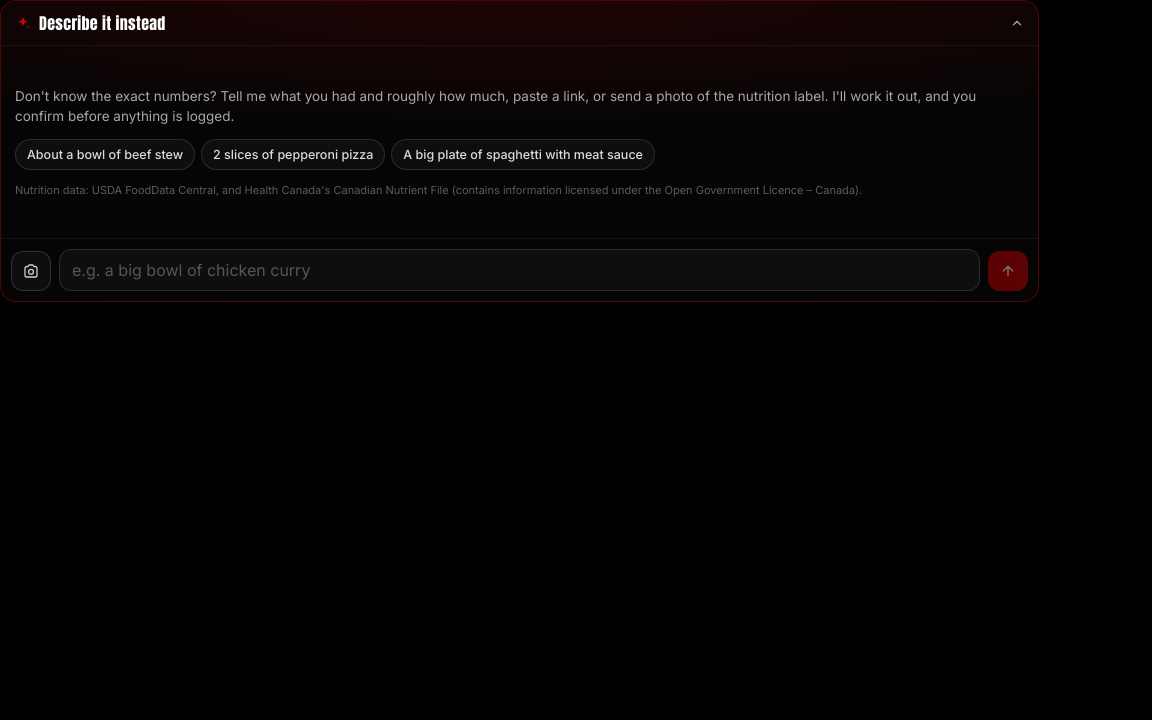
Test: FoodAssistant chat › shows the server's error, or a general one
Type "one" into the text box named "Describe what you ate" at coordinates (519, 270), box top-left (59, 249), bottom-right (980, 291)
Then press Enter
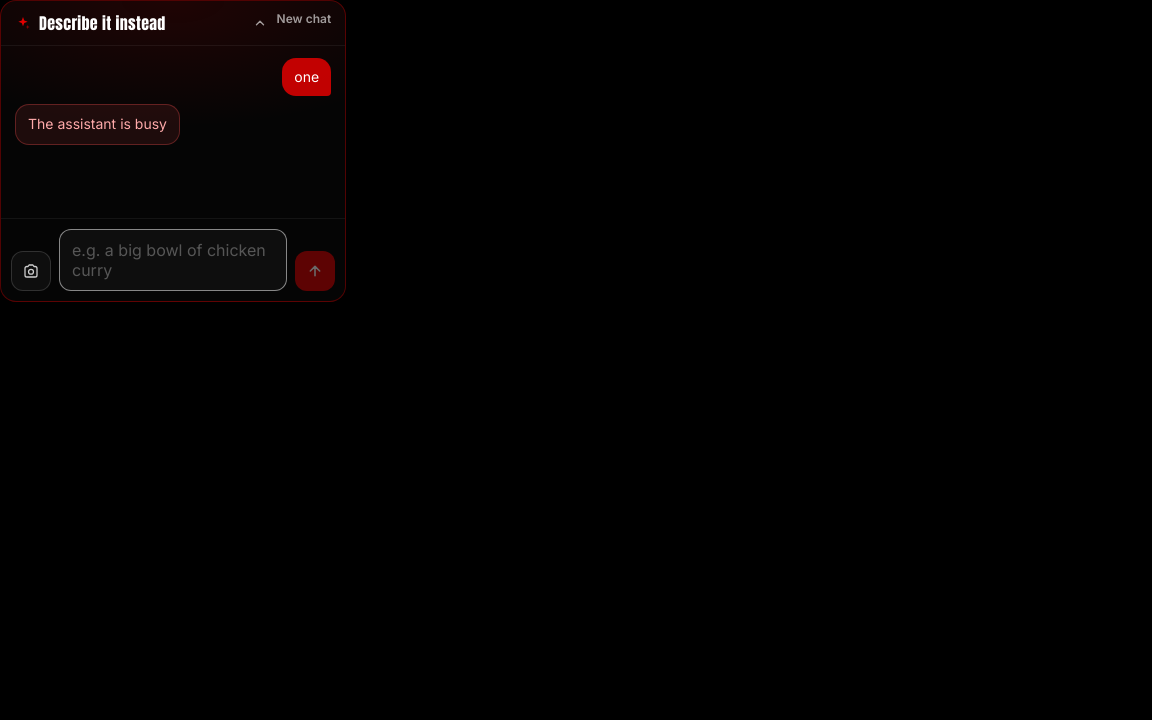
expect the text "The assistant is busy" is shown: met, box top-left (15, 104), bottom-right (180, 145)
Type "two" into the text box named "Describe what you ate" at coordinates (173, 260), box top-left (59, 229), bottom-right (287, 291)
Then press Enter
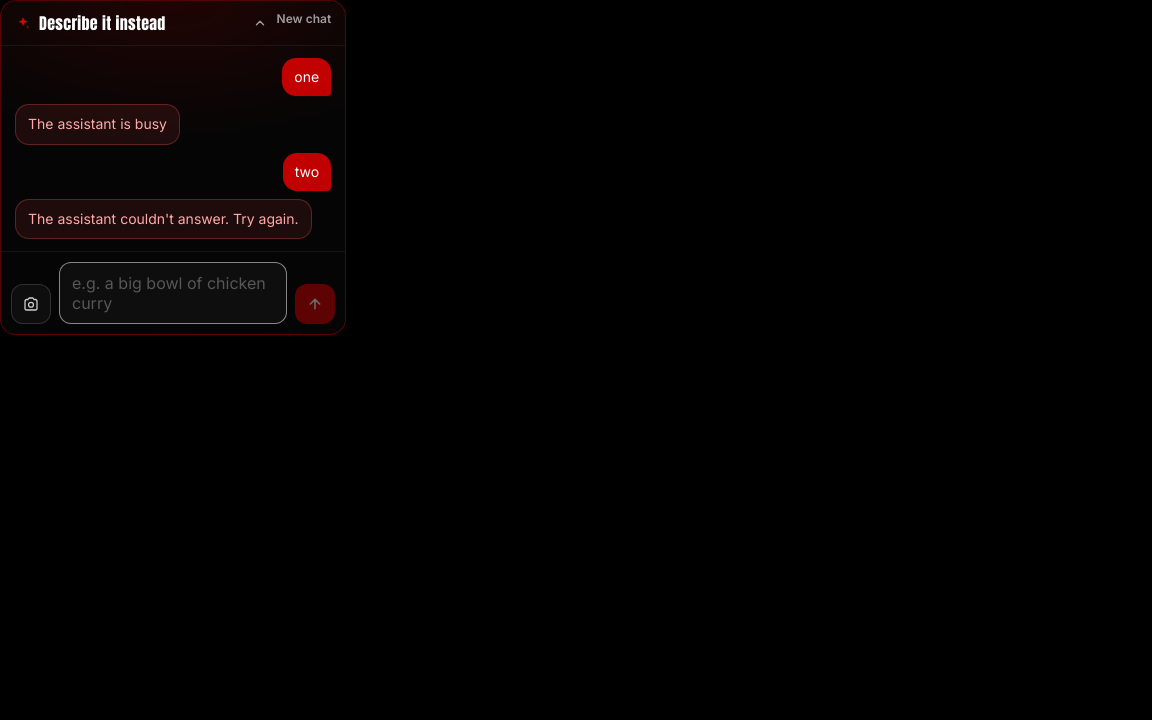
expect the text "The assistant couldn't answer. Try again." is shown: met, box top-left (15, 199), bottom-right (312, 239)
Type "three" into the text box named "Describe what you ate" at coordinates (173, 293), box top-left (59, 262), bottom-right (287, 324)
Then press Enter
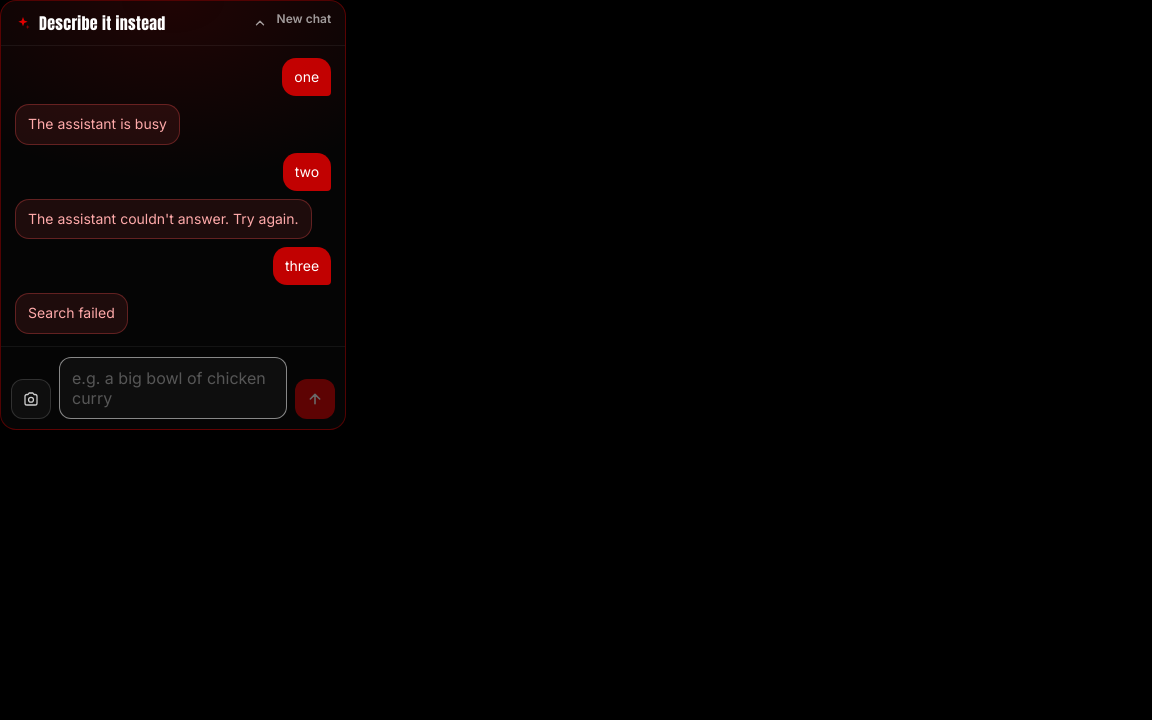
expect the text "Search failed" is shown: met, box top-left (15, 294), bottom-right (128, 334)
Type "four" into the text box named "Describe what you ate" at coordinates (173, 388), box top-left (59, 357), bottom-right (287, 419)
Then press Enter
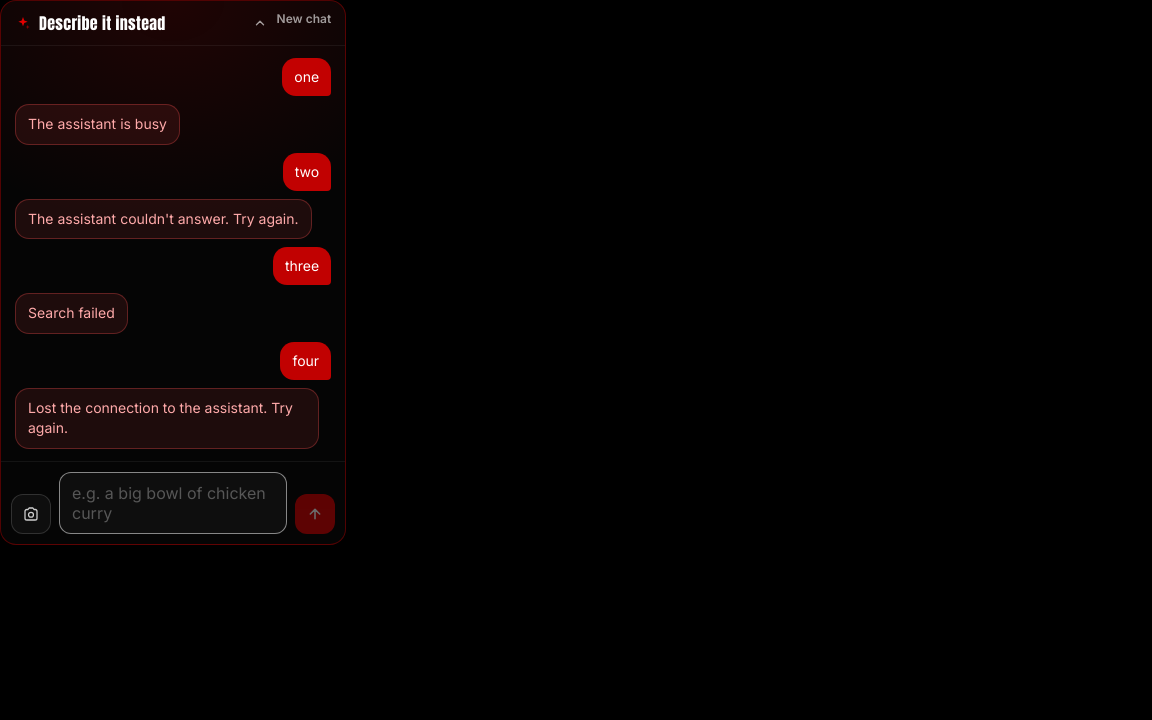
expect the text "Lost the connection to the assistant. Try again." is shown: met, box top-left (15, 388), bottom-right (319, 449)
